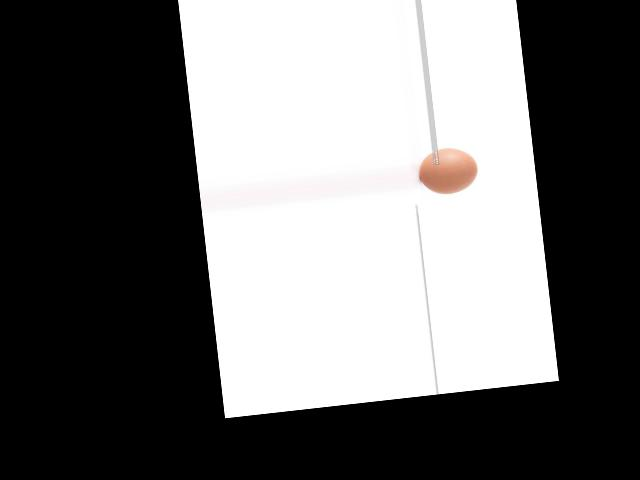egg: (417, 144, 479, 196)
